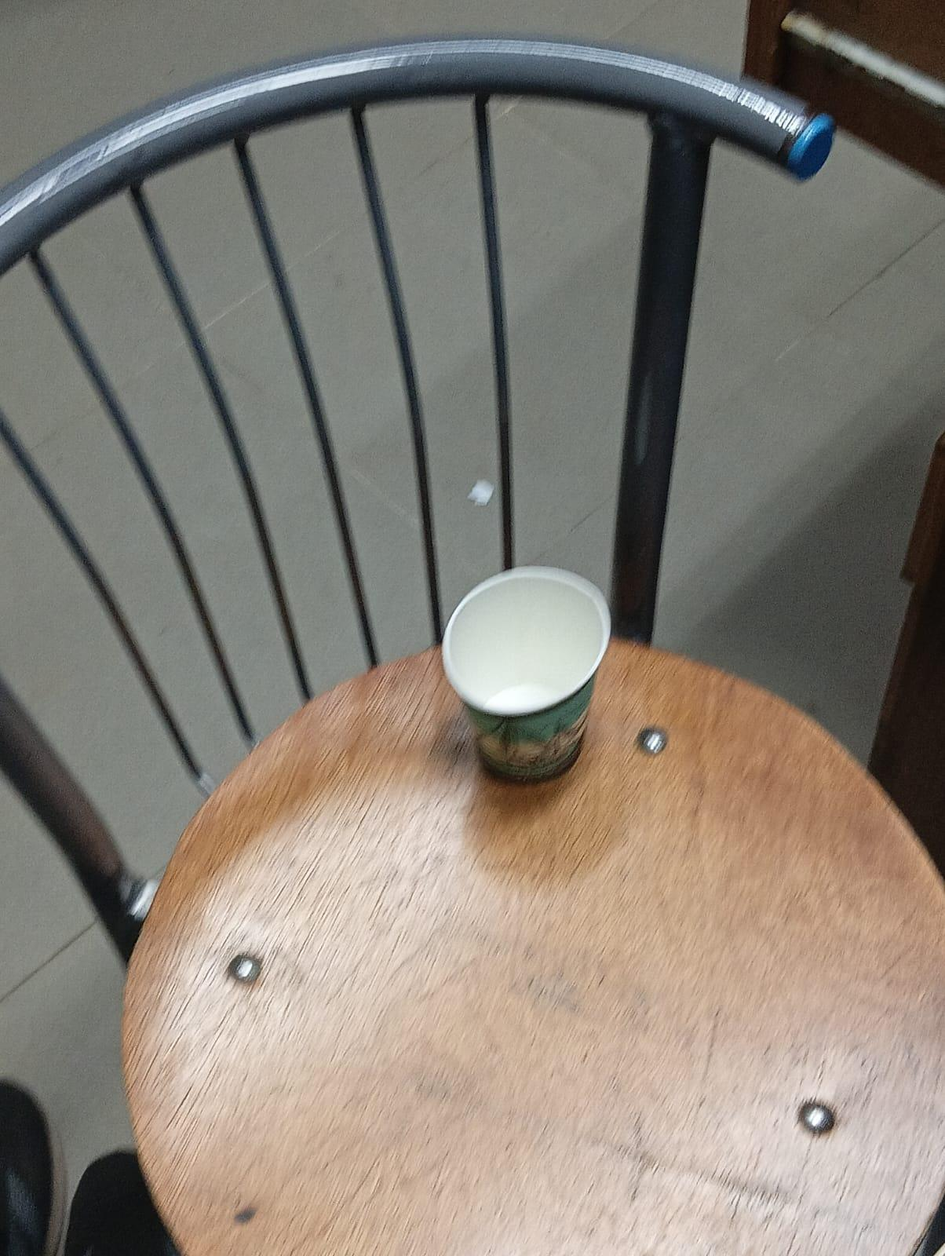cup: (443, 567, 609, 780)
